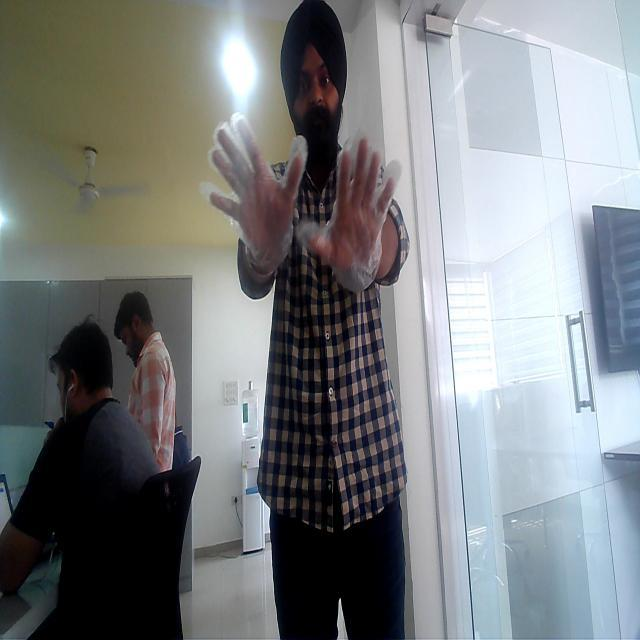with_gloves: (196, 112, 304, 273), (315, 143, 418, 286)
